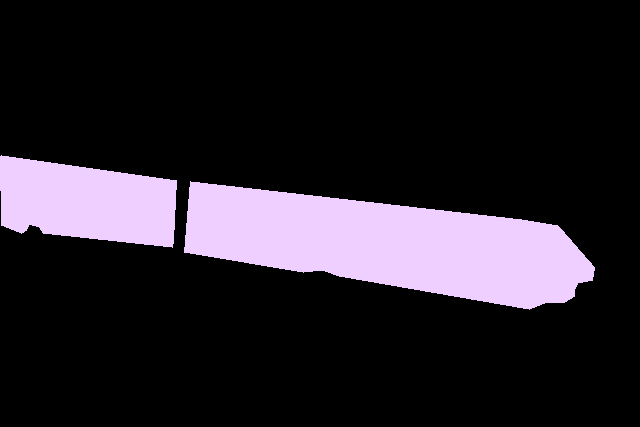Train: (0, 155, 594, 309)
